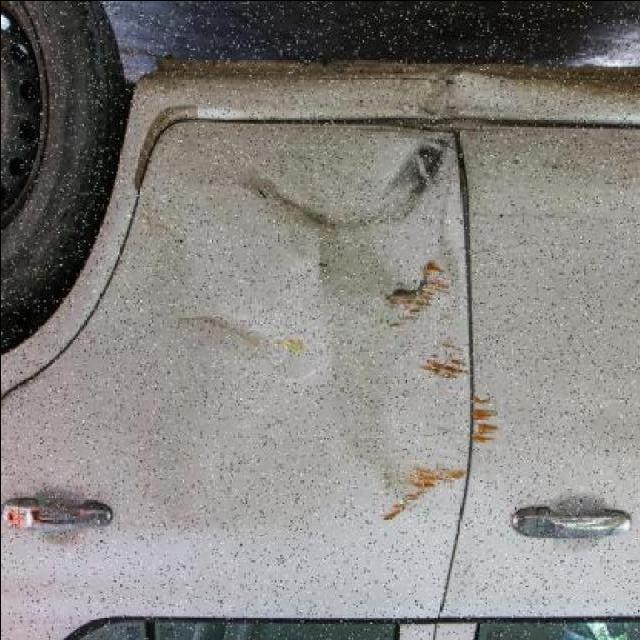RunningBoard-Dent: (222, 56, 640, 128)
doorouter-dent: (100, 121, 457, 628), (465, 120, 638, 614)
